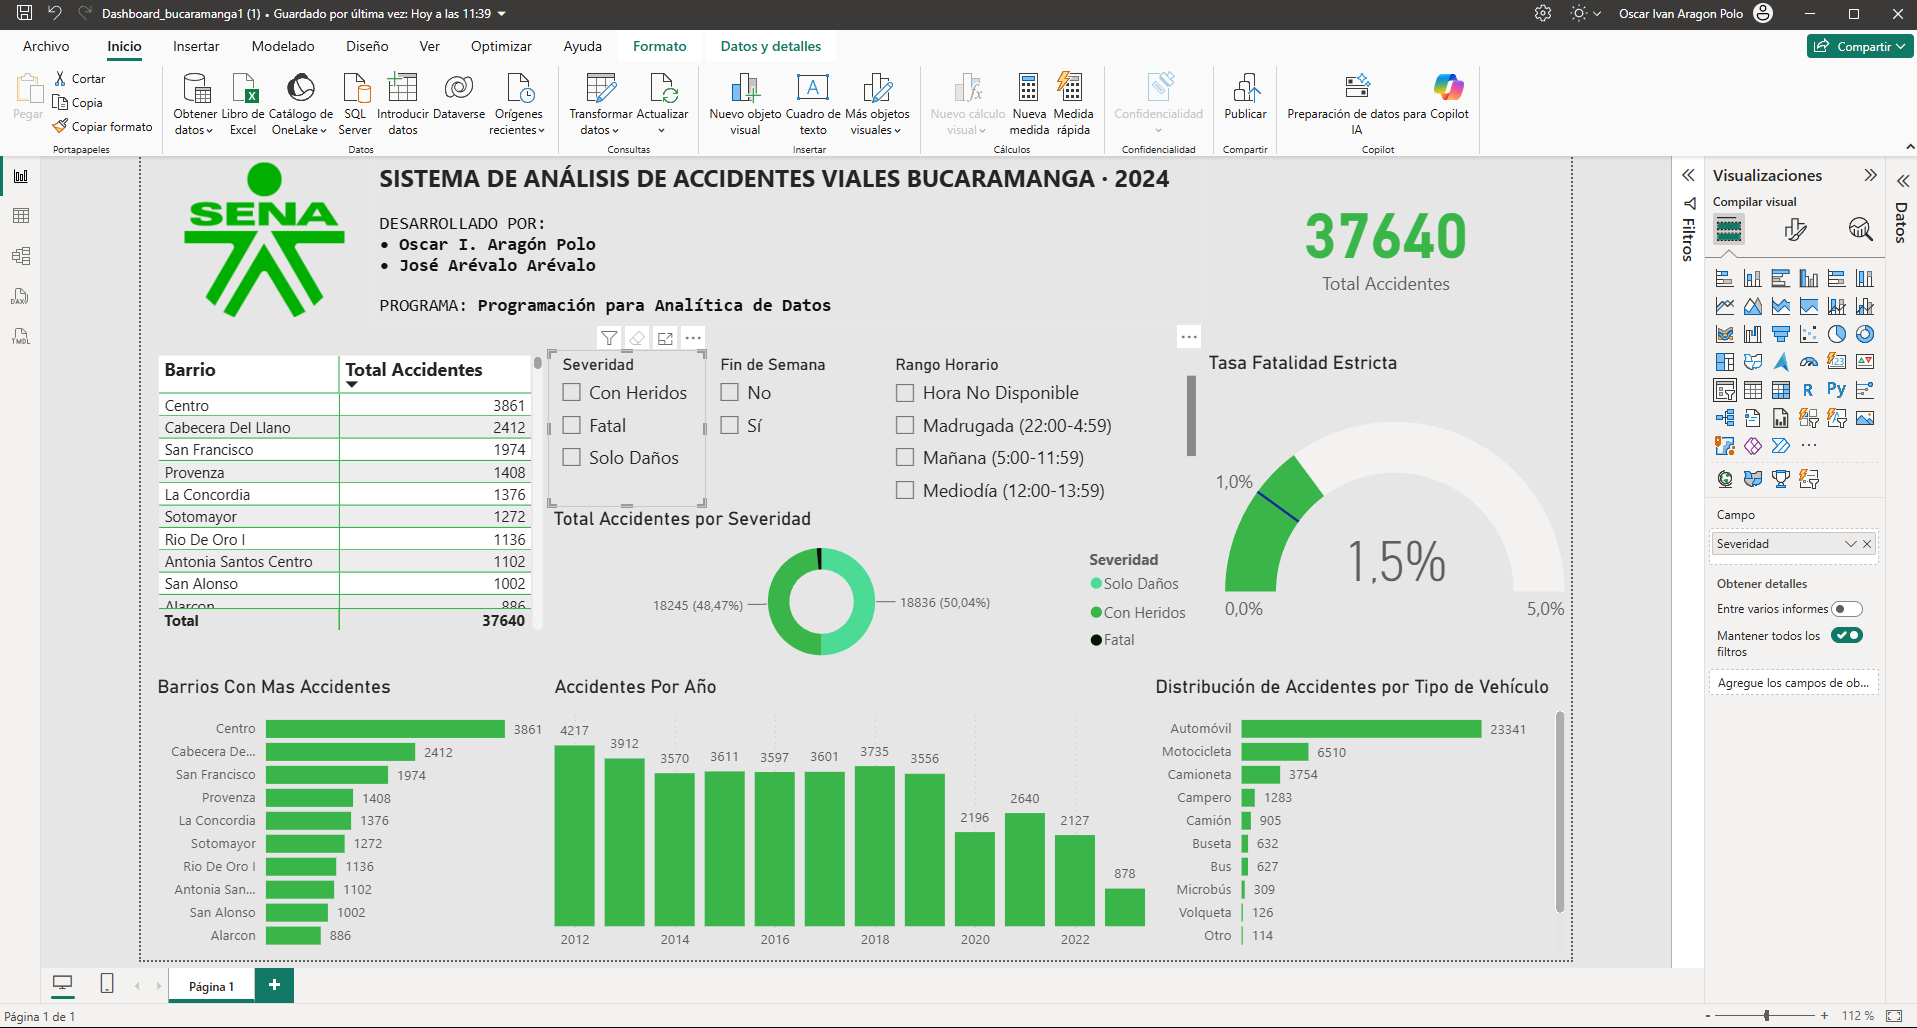

The page's visual inventory and layout, read from the dashboard file:
{"tool":"powerbi","page":{"name":"Página 1","canvas":[1280,720],"ordinal":0},"visuals":[{"type":"card","fields":{"Values":["Accidentes_Bucaramanga.Total Accidentes Corregido"]},"box":[950.4,0,329.6,150.5],"z":0},{"type":"tableEx","fields":{"Values":["Accidentes_Bucaramanga.BARRIO","Accidentes_Bucaramanga.Total Accidentes"]},"box":[10,173.8,355,256.2],"z":1000},{"type":"clusteredBarChart","title":"Barrios Con Mas Accidentes","fields":{"Category":["Accidentes_Bucaramanga.BARRIO"],"Y":["Accidentes_Bucaramanga.Total Accidentes"]},"box":[10,465,355,255],"z":2000},{"type":"barChart","title":"Distribución de Accidentes por Tipo de Vehículo","fields":{"Category":["Accidentes_Bucaramanga.VEHICULO_PRINCIPAL"],"Y":["Accidentes_Bucaramanga.Total Accidentes Corregido"]},"box":[903.8,465,376.2,255],"z":3000},{"type":"clusteredColumnChart","title":"Accidentes Por Año","fields":{"Category":["Accidentes_Bucaramanga.AÑO"],"Y":["Accidentes_Bucaramanga.Total Accidentes Corregido"]},"box":[365,465,538.8,255],"z":4000},{"type":"slicer","fields":{"Values":["Accidentes_Bucaramanga.SEVERIDAD"]},"box":[364.5,174.2,141.8,140.6],"z":5000},{"type":"donutChart","fields":{"Category":["Accidentes_Bucaramanga.SEVERIDAD"],"Y":["Accidentes_Bucaramanga.Total Accidentes Corregido"]},"box":[364.5,314.7,585.9,150.5],"z":6000},{"type":"gauge","fields":{"Y":["Accidentes_Bucaramanga.Tasa Fatalidad Estricta"]},"box":[950.8,174.2,328.8,290.8],"z":7000},{"type":"slicer","fields":{"Values":["Accidentes_Bucaramanga.RANGO_HORARIO"]},"box":[663,174.2,287.4,140.6],"z":8000},{"type":"image","box":[10.4,0,200,150],"z":9000},{"type":"textbox","box":[209,0,741.4,150.5],"z":10000},{"type":"slicer","fields":{"Values":["Accidentes_Bucaramanga.Fin de Semana"]},"box":[506.3,174.2,158,140.6],"z":11000}]}

Visuals, with their boxes on the page's 1280x720 design canvas (x1, y1, x2, y2). These are canvas units, not pixel positions in the 1917x1028 screenshot, which may show the page scaled, cropped or inside an application window:
card - Accidentes_Bucaramanga.Total Accidentes Corregido: 950:0:1280:150
tableEx - Accidentes_Bucaramanga.BARRIO x Accidentes_Bucaramanga.Total Accidentes: 10:174:365:430
"Barrios Con Mas Accidentes" clusteredBarChart: 10:465:365:720
"Distribución de Accidentes por Tipo de Vehículo" barChart: 904:465:1280:720
"Accidentes Por Año" clusteredColumnChart: 365:465:904:720
slicer - Accidentes_Bucaramanga.SEVERIDAD: 364:174:506:315
donutChart - Accidentes_Bucaramanga.SEVERIDAD x Accidentes_Bucaramanga.Total Accidentes Corregido: 364:315:950:465
gauge - Accidentes_Bucaramanga.Tasa Fatalidad Estricta: 951:174:1280:465
slicer - Accidentes_Bucaramanga.RANGO_HORARIO: 663:174:950:315
image: 10:0:210:150
textbox: 209:0:950:150
slicer - Accidentes_Bucaramanga.Fin de Semana: 506:174:664:315
